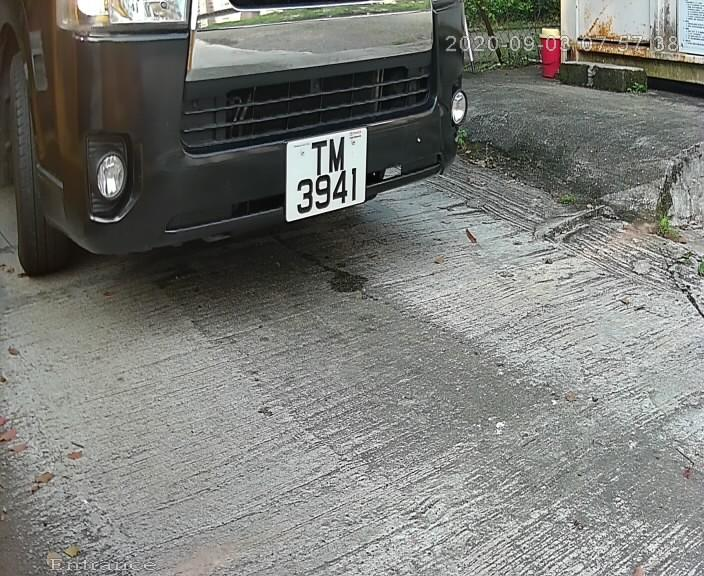License Plate: (274, 121, 378, 227)
